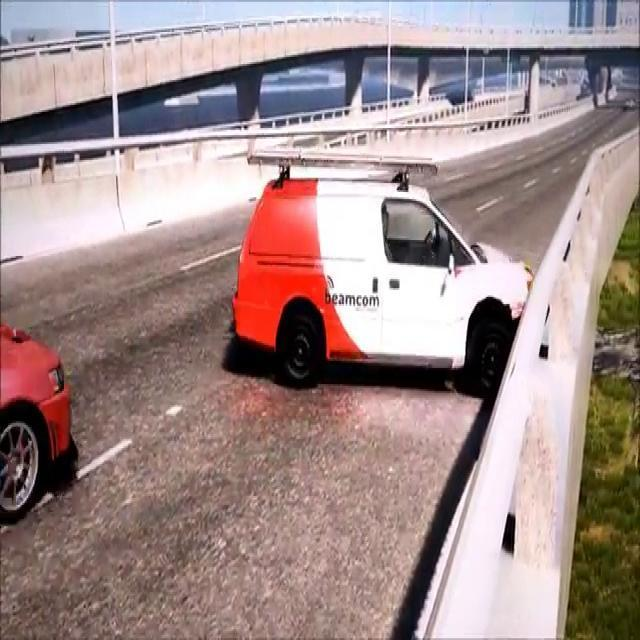moderate: (224, 127, 549, 410)
